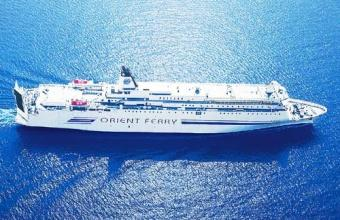youlun: (10, 69, 331, 139)
